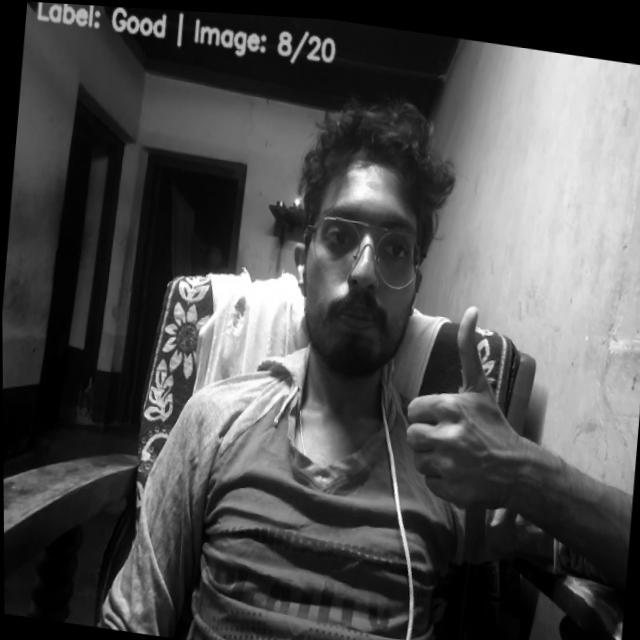Good: (399, 291, 524, 519)
